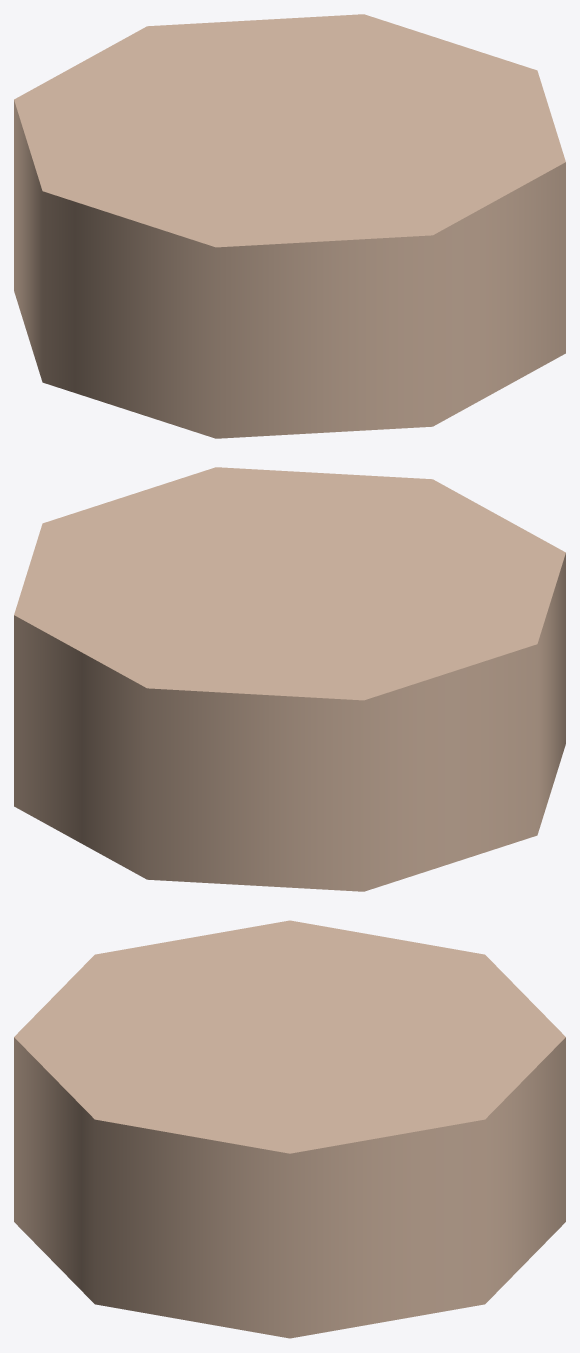
The model's file is SM_Shape_Circle_8_Sides__02.fbx.
3 renders of one model, top to bottom at view 1: azimuth 30°, elevation 25°; view 2: azimuth 150°, elevation 25°; view 3: azimuth 270°, elevation 25°, orthographic. The views are drawn at different scales.
Parts seen in each view (by area): view 1: SM_Shape_Circle_8_Sides__02; view 2: SM_Shape_Circle_8_Sides__02; view 3: SM_Shape_Circle_8_Sides__02.
Boxes of the visible parts, box(x1,y1,x2,y2) form: SM_Shape_Circle_8_Sides__02: box(14, 14, 565, 438); SM_Shape_Circle_8_Sides__02: box(14, 467, 565, 891); SM_Shape_Circle_8_Sides__02: box(14, 920, 565, 1338).
Bounding box in the file's own units: 6.73 × 2.49 × 6.73.
